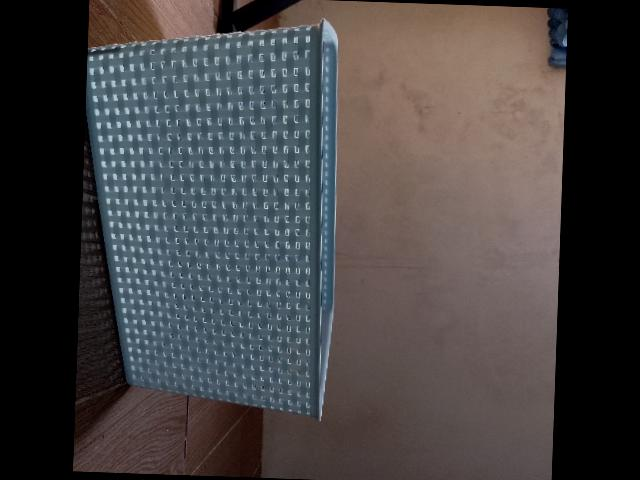cart: (85, 19, 338, 423)
